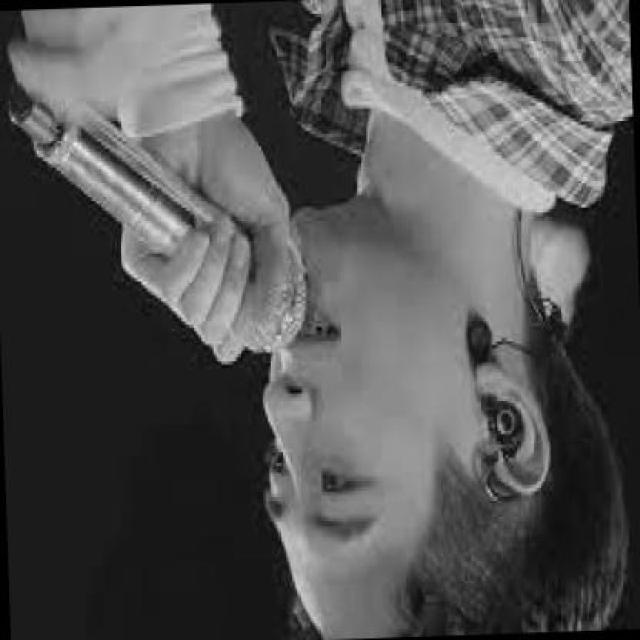earphone: (471, 379, 531, 492)
